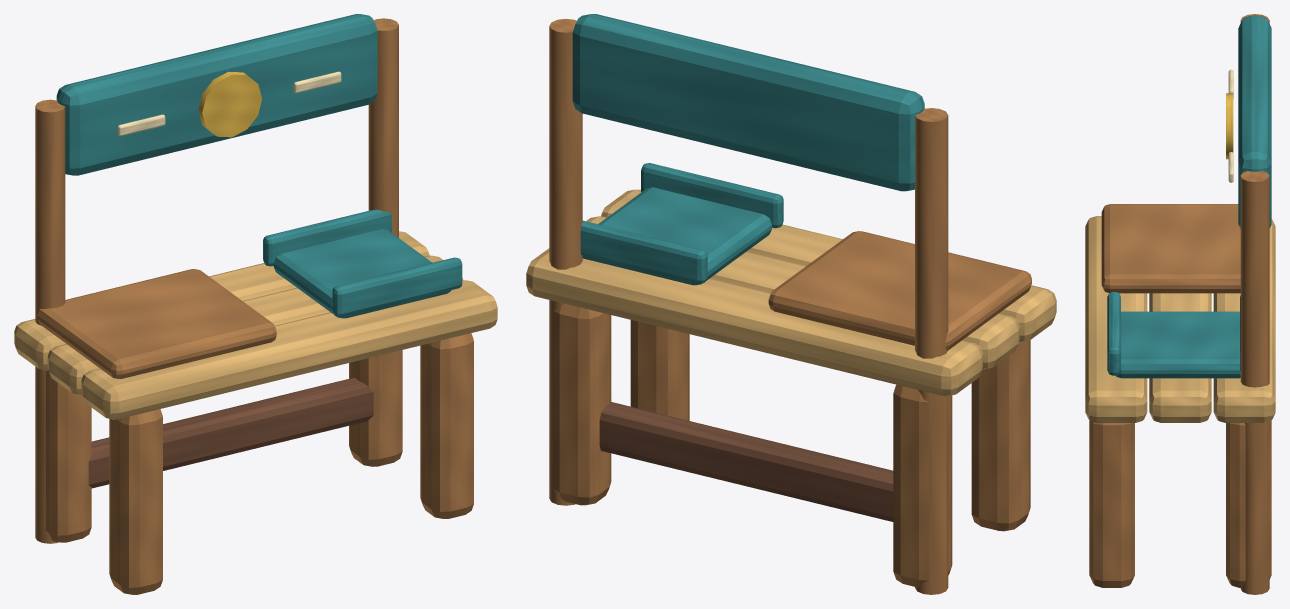
File: sale-bench.glb
3 renders of one model, left to right at view 1: azimuth 30°, elevation 25°; view 2: azimuth 150°, elevation 25°; view 3: azimuth 270°, elevation 25°, orthographic. The views are drawn at different scales.
Visible parts, largest first — view 1: sale-bench-mesh; view 2: sale-bench-mesh; view 3: sale-bench-mesh.
Part boxes in pixels (x1,y1,x2,y2): sale-bench-mesh: (14, 14, 497, 594); sale-bench-mesh: (526, 14, 1056, 594); sale-bench-mesh: (1085, 14, 1275, 594).
Size of the model in its own units: 2.1 by 2.27 by 0.92.
Materials: 1 (1 with a texture image).
